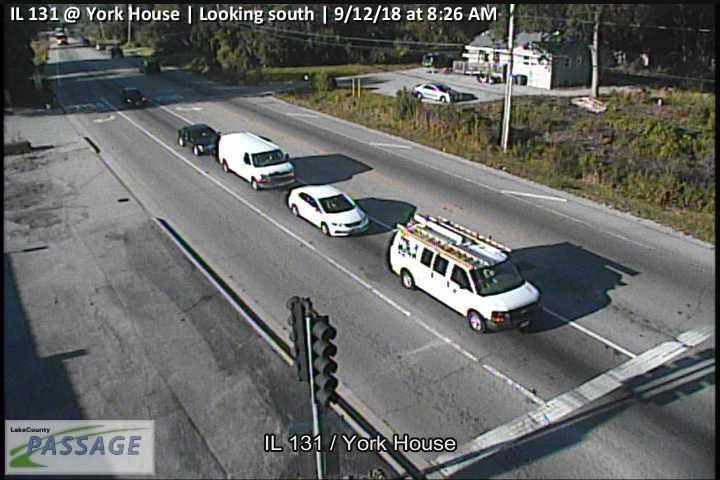SUV: (387, 212, 544, 334), (216, 130, 297, 191)
Sedan: (287, 183, 371, 238), (173, 120, 224, 157), (410, 80, 462, 103), (116, 85, 148, 110)
